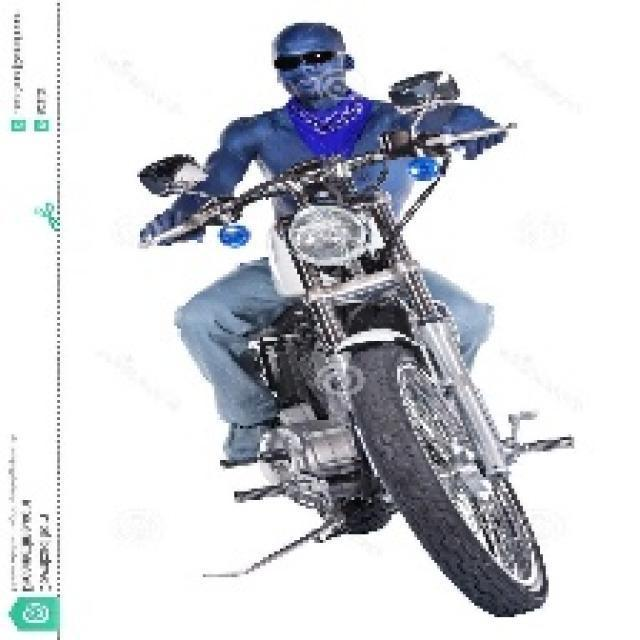Motorcycle: (220, 172, 564, 614)
